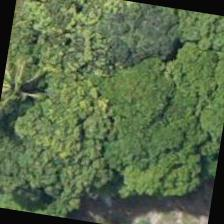Kelapa_Sawit: (0, 41, 60, 139)
